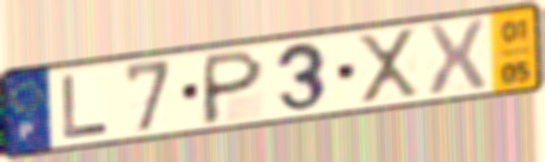3: (273, 39, 333, 116)
7: (123, 57, 174, 136)
L: (59, 71, 112, 143)
P: (198, 46, 268, 127)
X: (423, 16, 491, 100), (354, 25, 423, 107)
